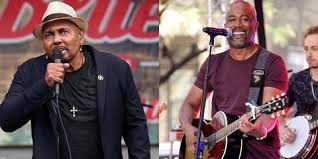black_male: (225, 4, 259, 55)
